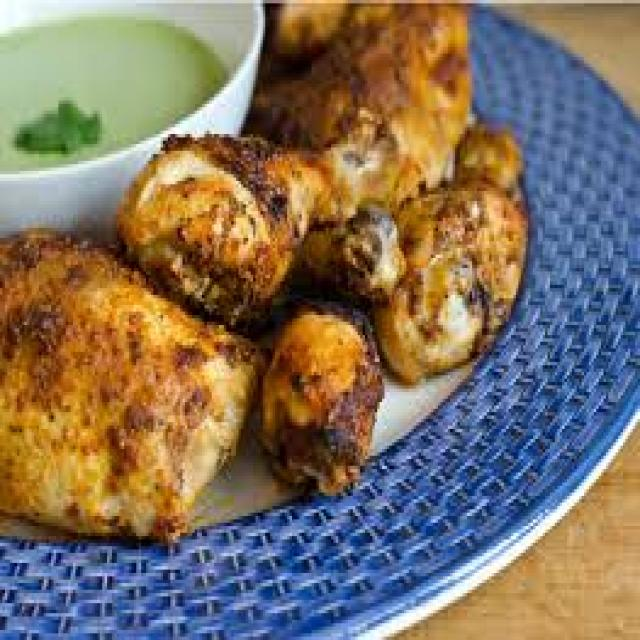Frango: (0, 117, 528, 546), (260, 0, 540, 533)
